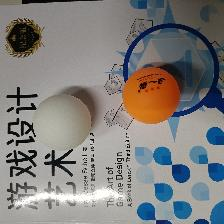WhiteBall: (32, 94, 91, 151)
YellowBall: (121, 66, 179, 125)
